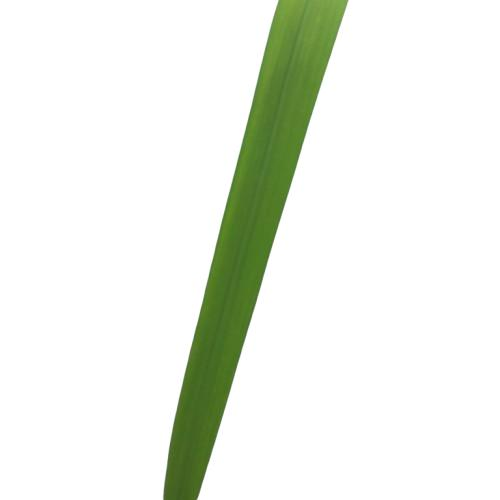Healthy: (163, 0, 347, 499)
